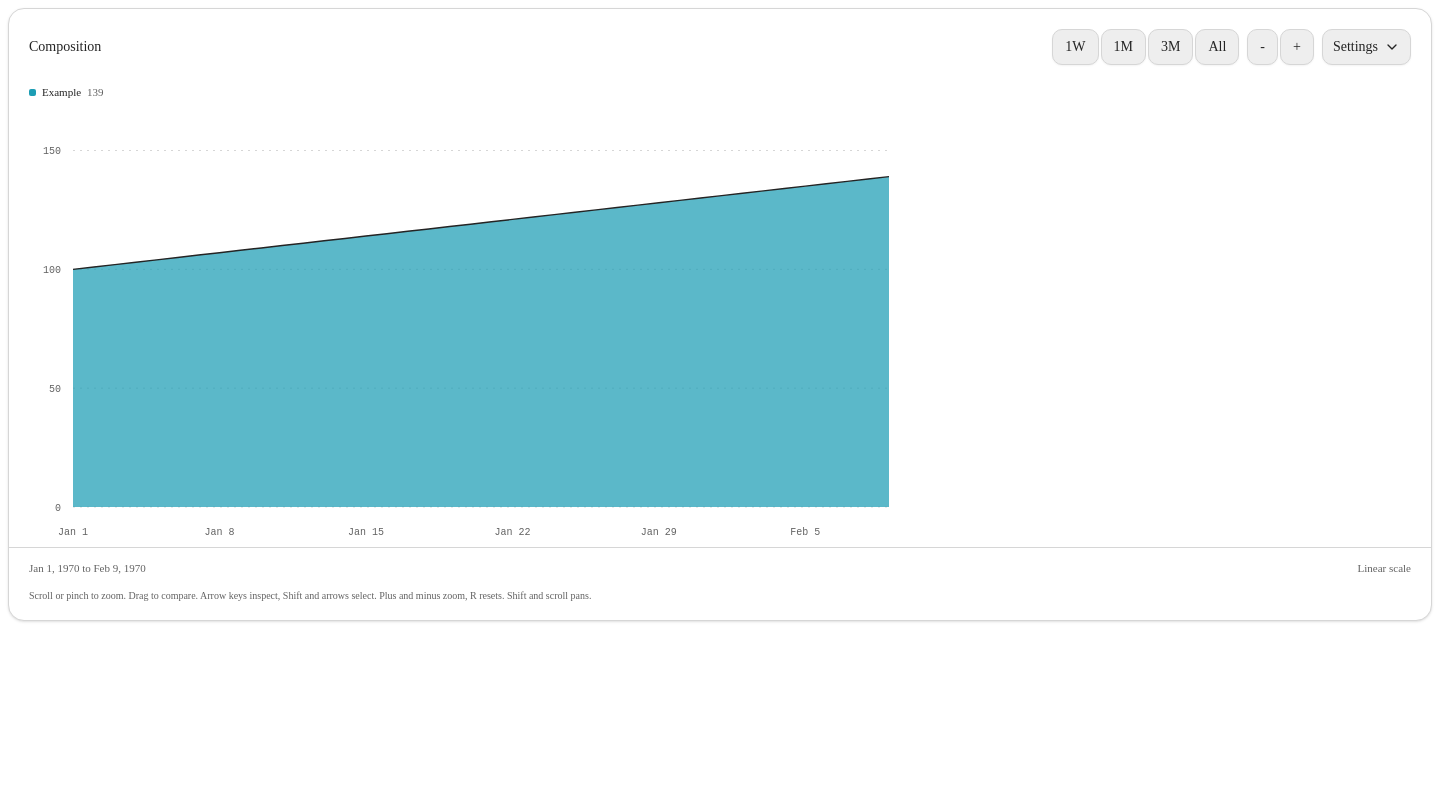
Test: TimeSeriesChart › inspects and compares using the keyboard with a spoken equivalent
Focus the slider named "Example volume," at [459, 332], box left=9, top=117, right=909, bottom=547
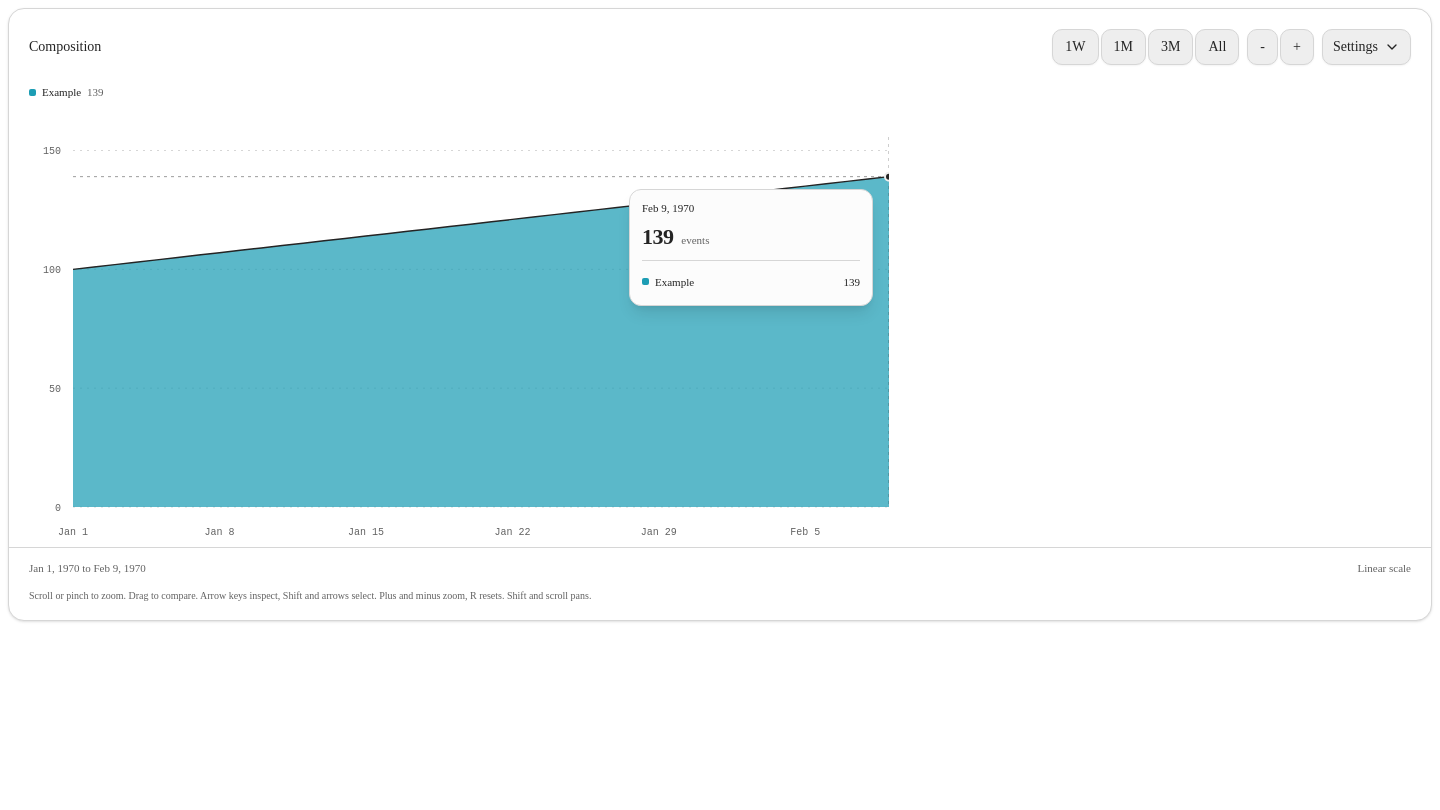
Press ArrowLeft in the slider named "Example volume,", box left=9, top=117, right=909, bottom=547
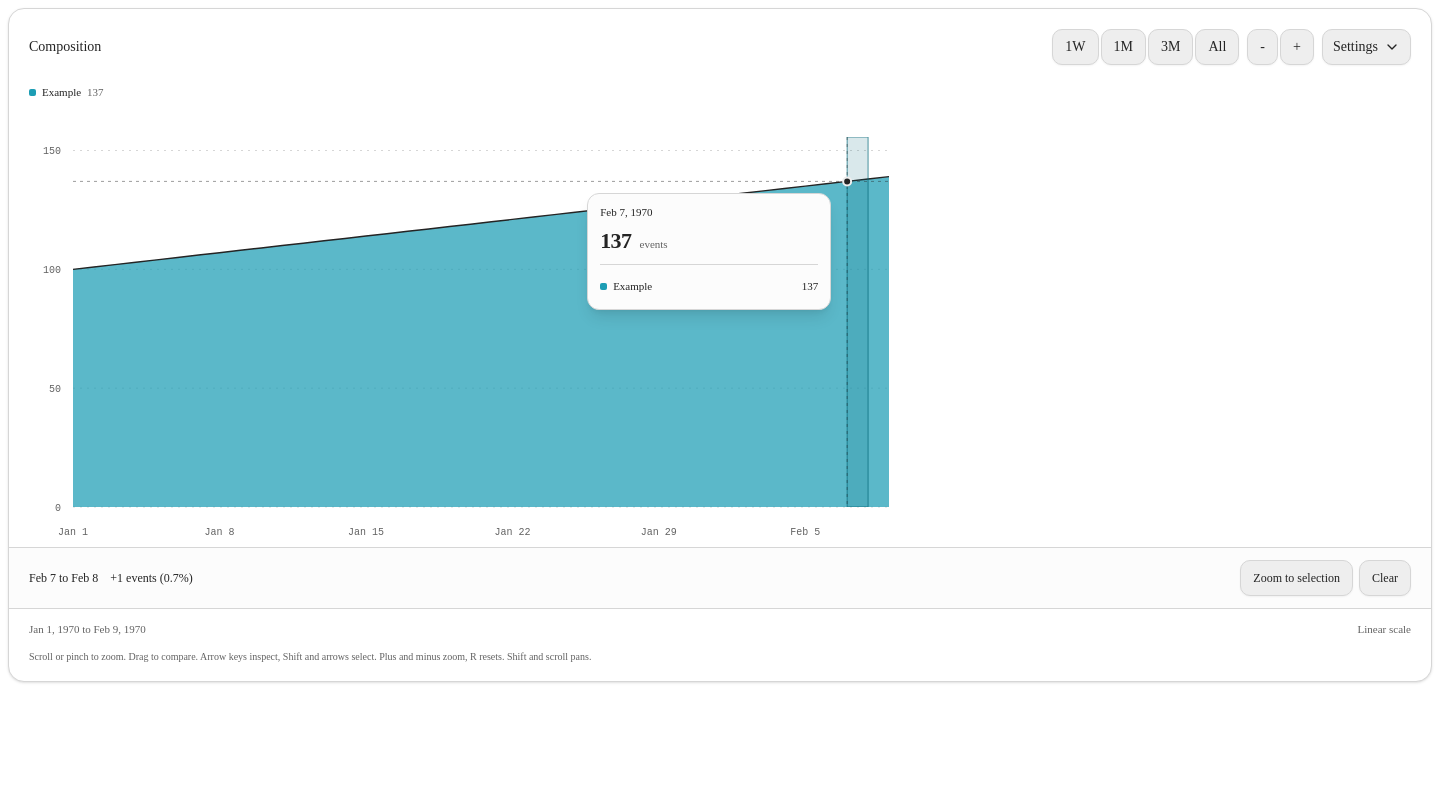
Click the button "Clear" at [1385, 578], box left=1359, top=560, right=1411, bottom=596
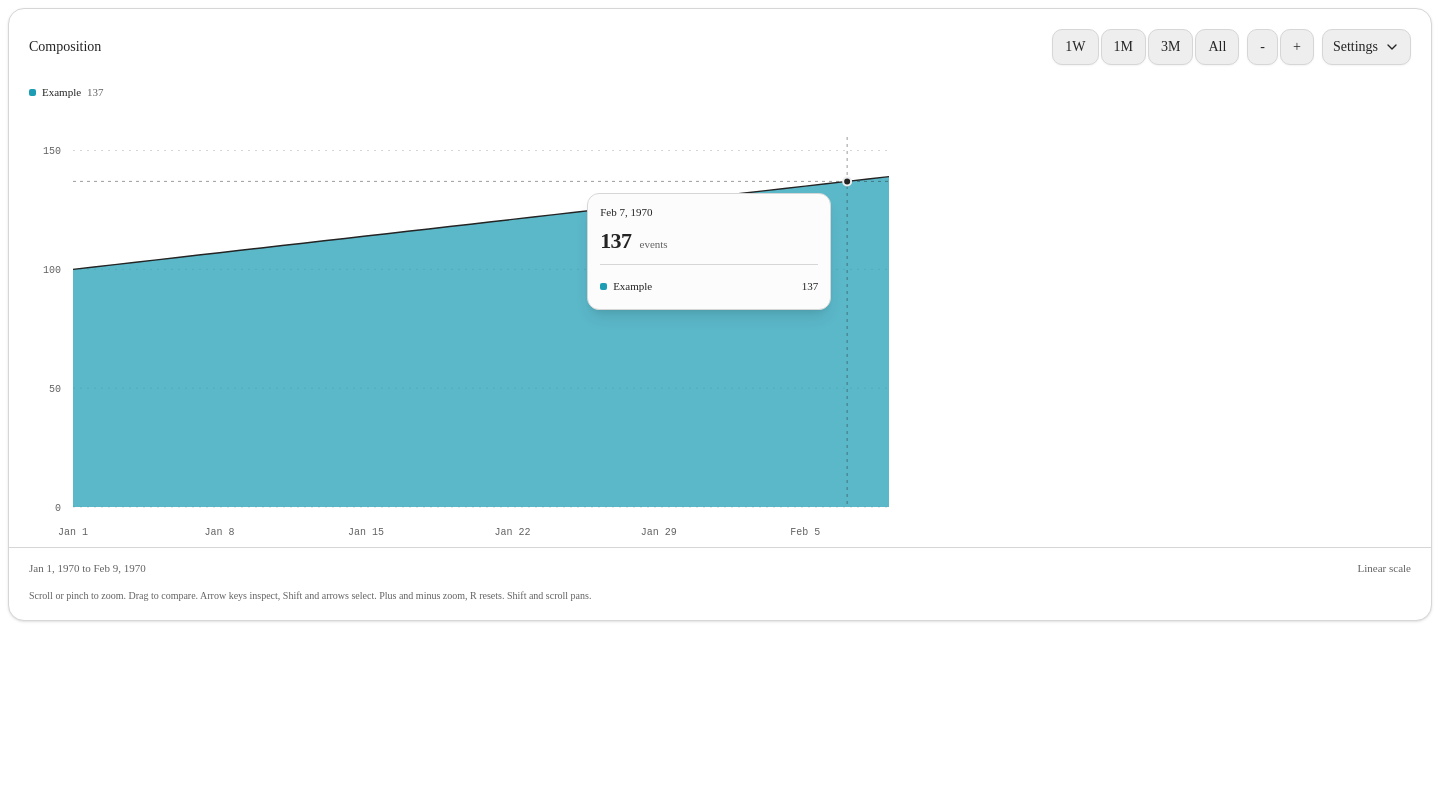
Check: the button "Zoom to selection" is gone
